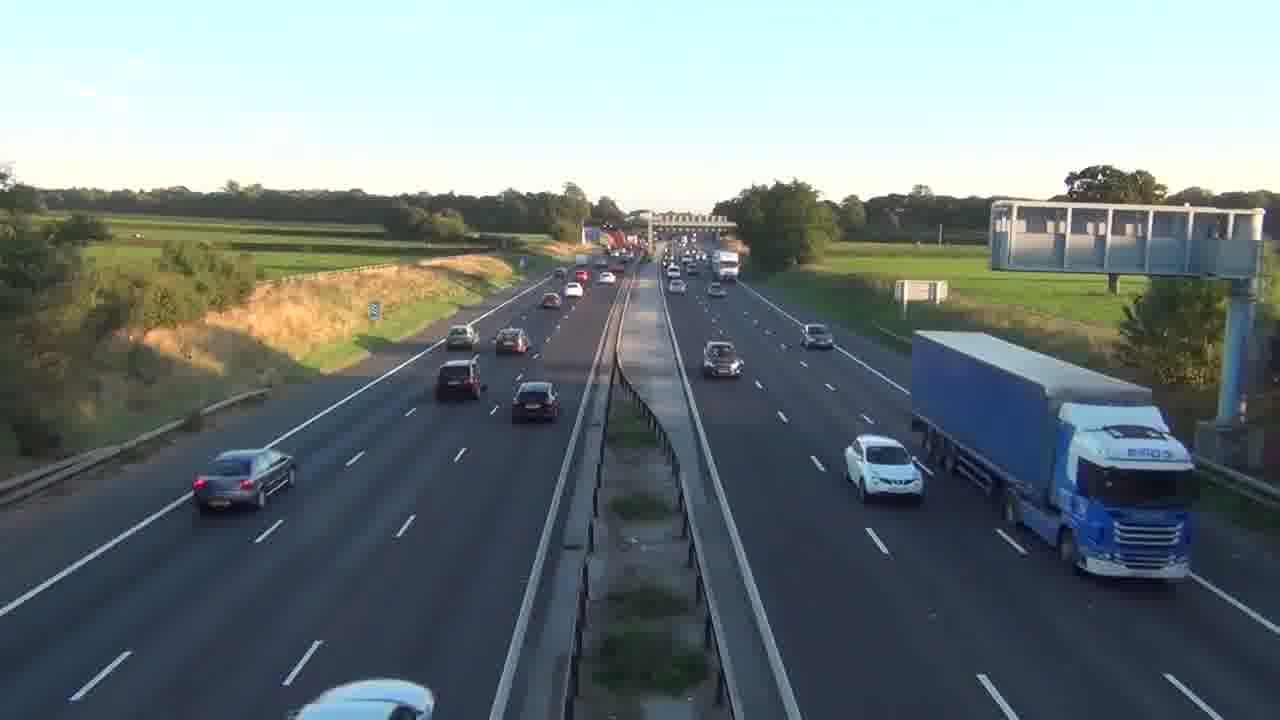car: (191, 447, 297, 513), (843, 432, 931, 505), (433, 357, 482, 401), (512, 380, 561, 423), (494, 326, 531, 355), (800, 323, 834, 351), (447, 323, 479, 350), (541, 292, 562, 308)
truck: (910, 329, 1199, 583)
